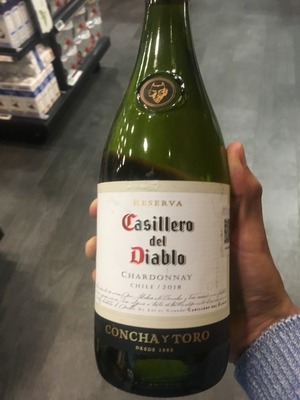casillero del diablo chardonnay: (84, 21, 241, 369)
